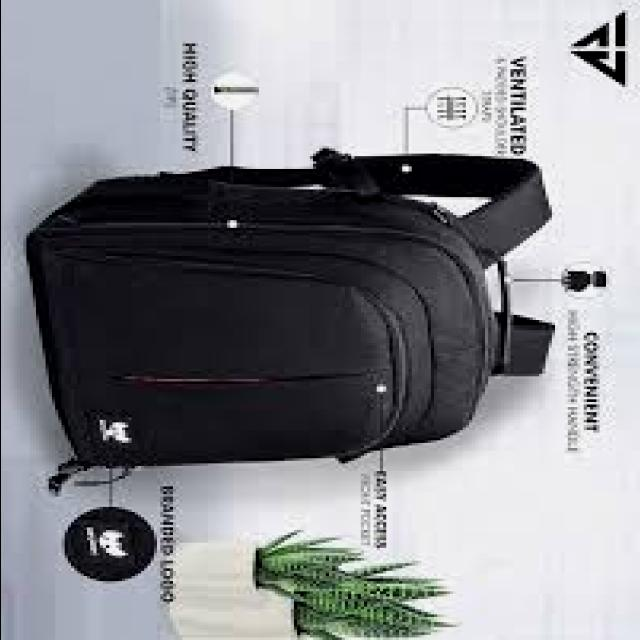backpack: (27, 148, 562, 498)
